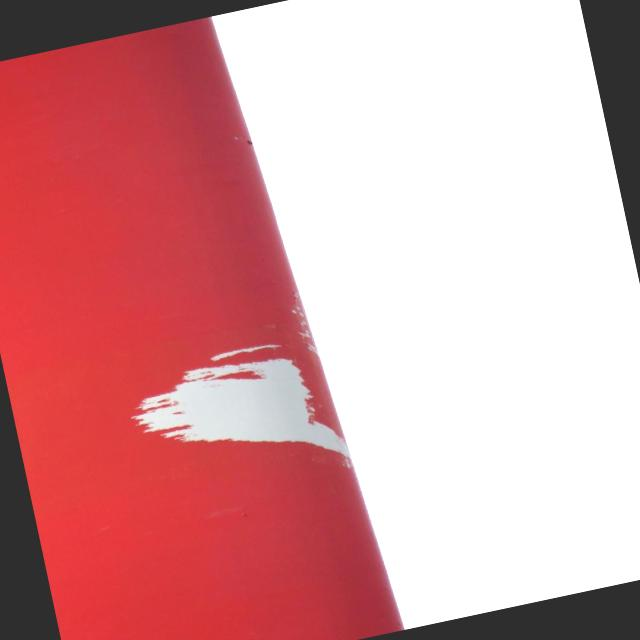surface_peeling: (120, 322, 356, 507)
